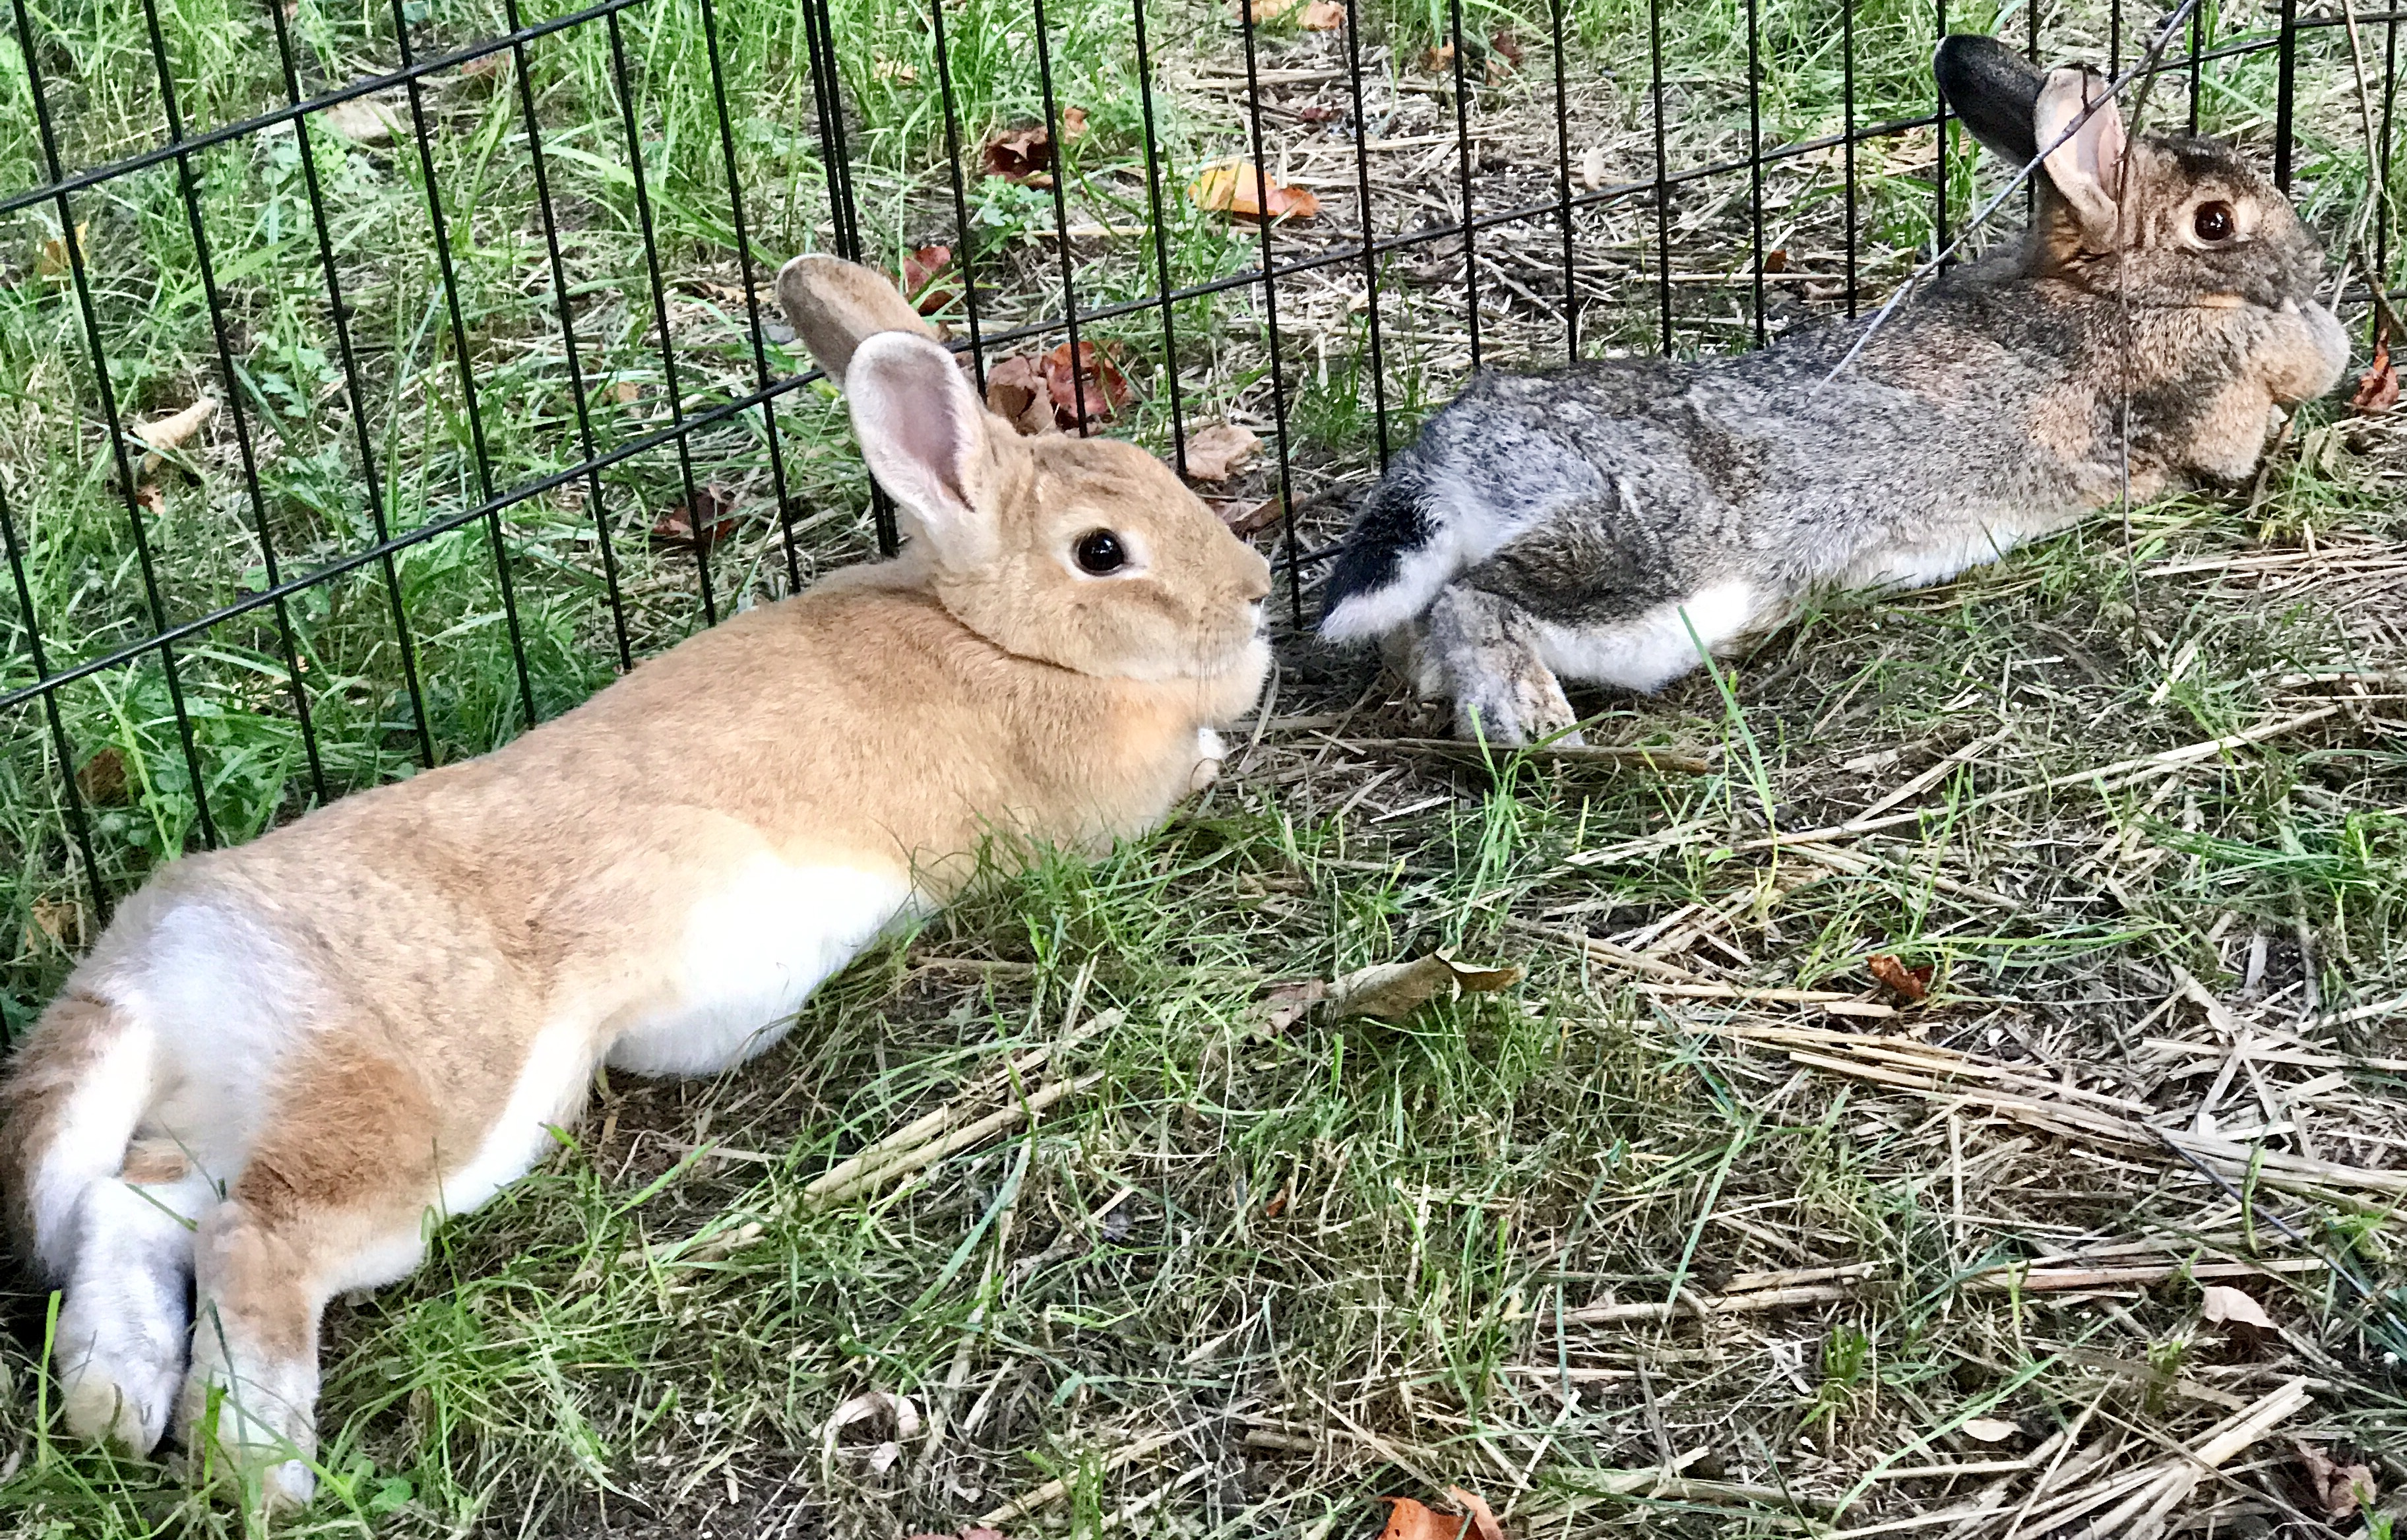bunny: (11, 170, 1340, 1479), (1309, 5, 2407, 791)
